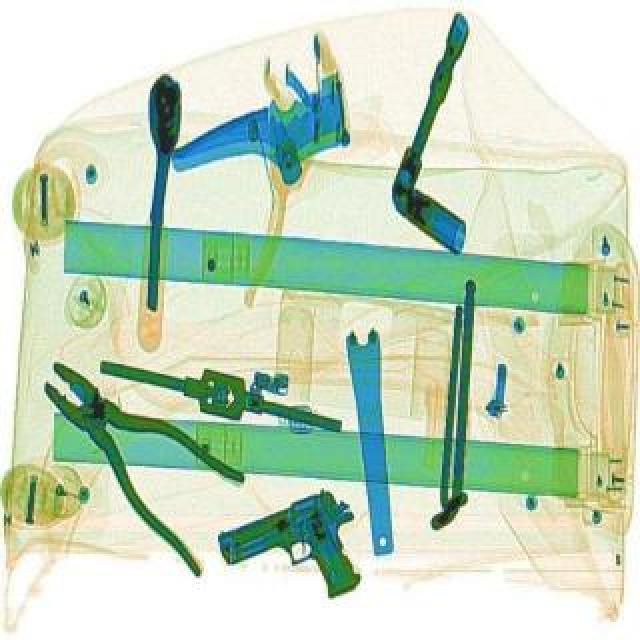gun: (210, 482, 382, 626)
wrench: (2, 332, 280, 574)
